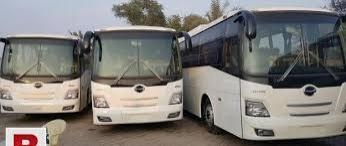bus: (177, 10, 346, 142), (84, 26, 186, 127), (0, 34, 94, 115)
